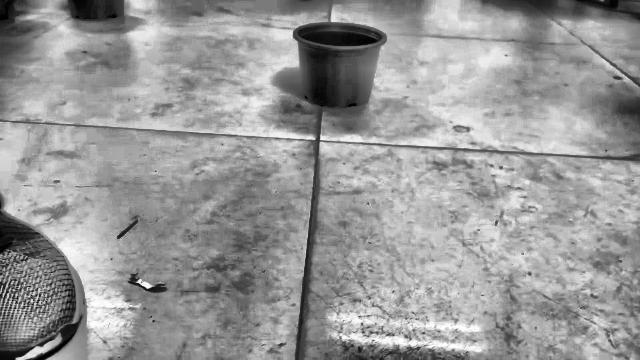pot: (293, 23, 385, 108)
